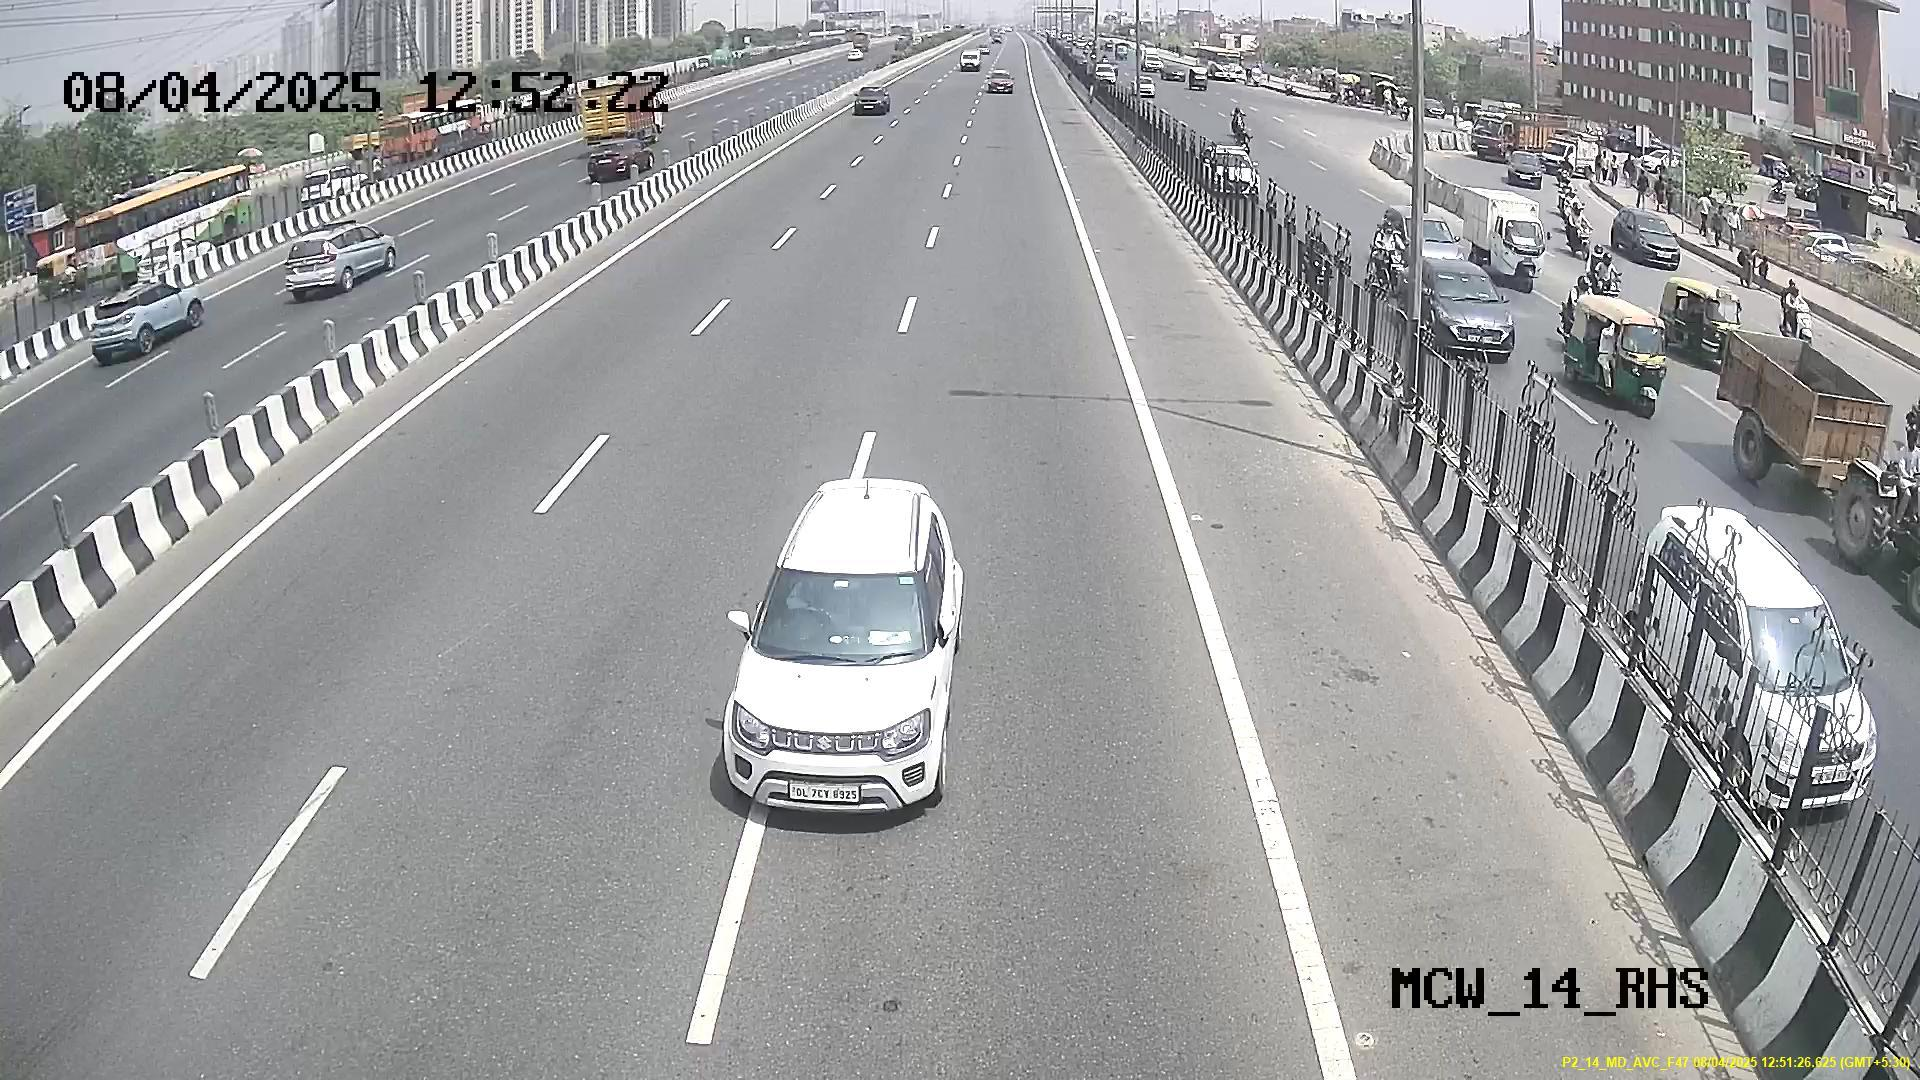car: (728, 543, 959, 820)
